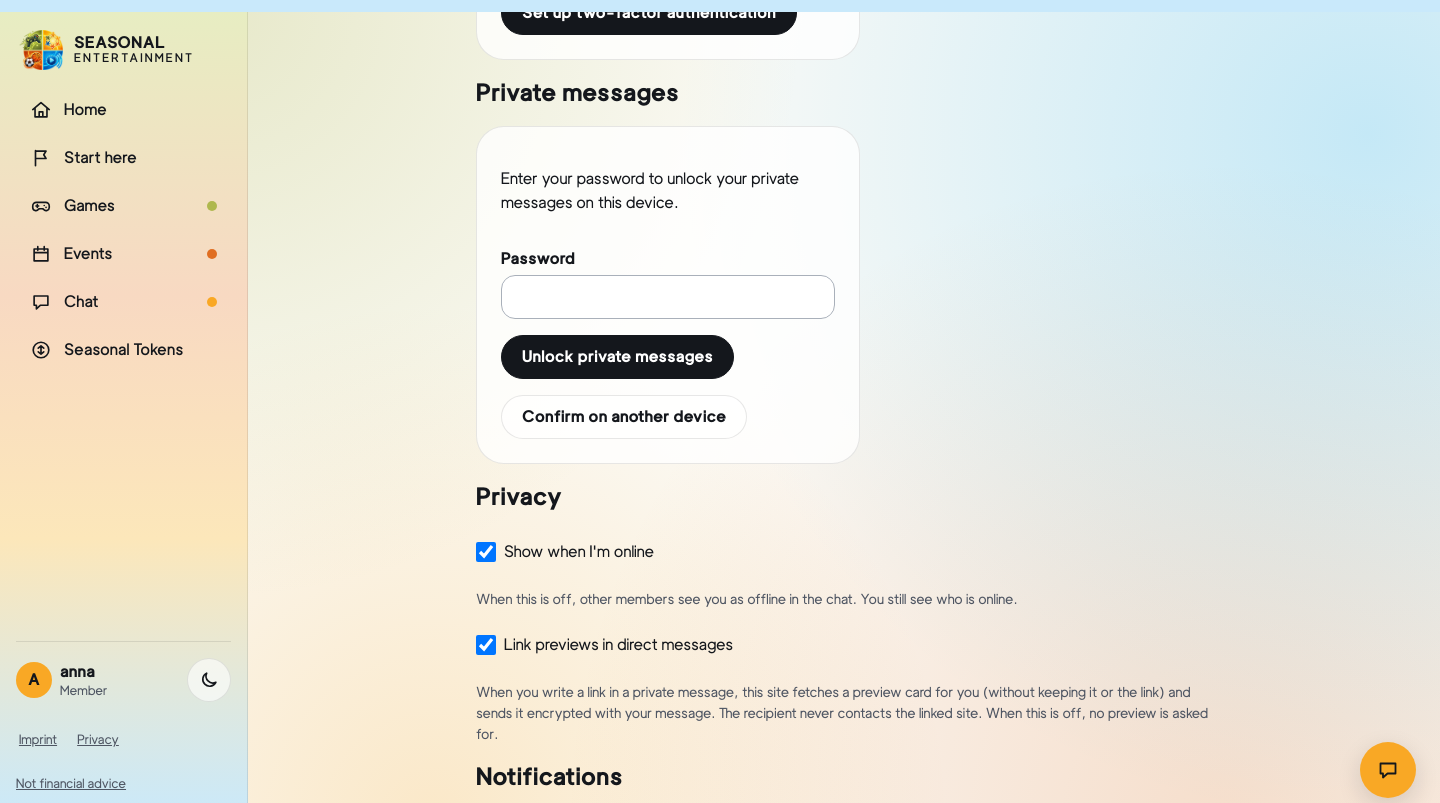
the new device › expired: nothing is unlocked
(page scrolled)
Step 1. Click the button "Confirm on another device" → (624, 417), box top-left (501, 395), bottom-right (747, 439)
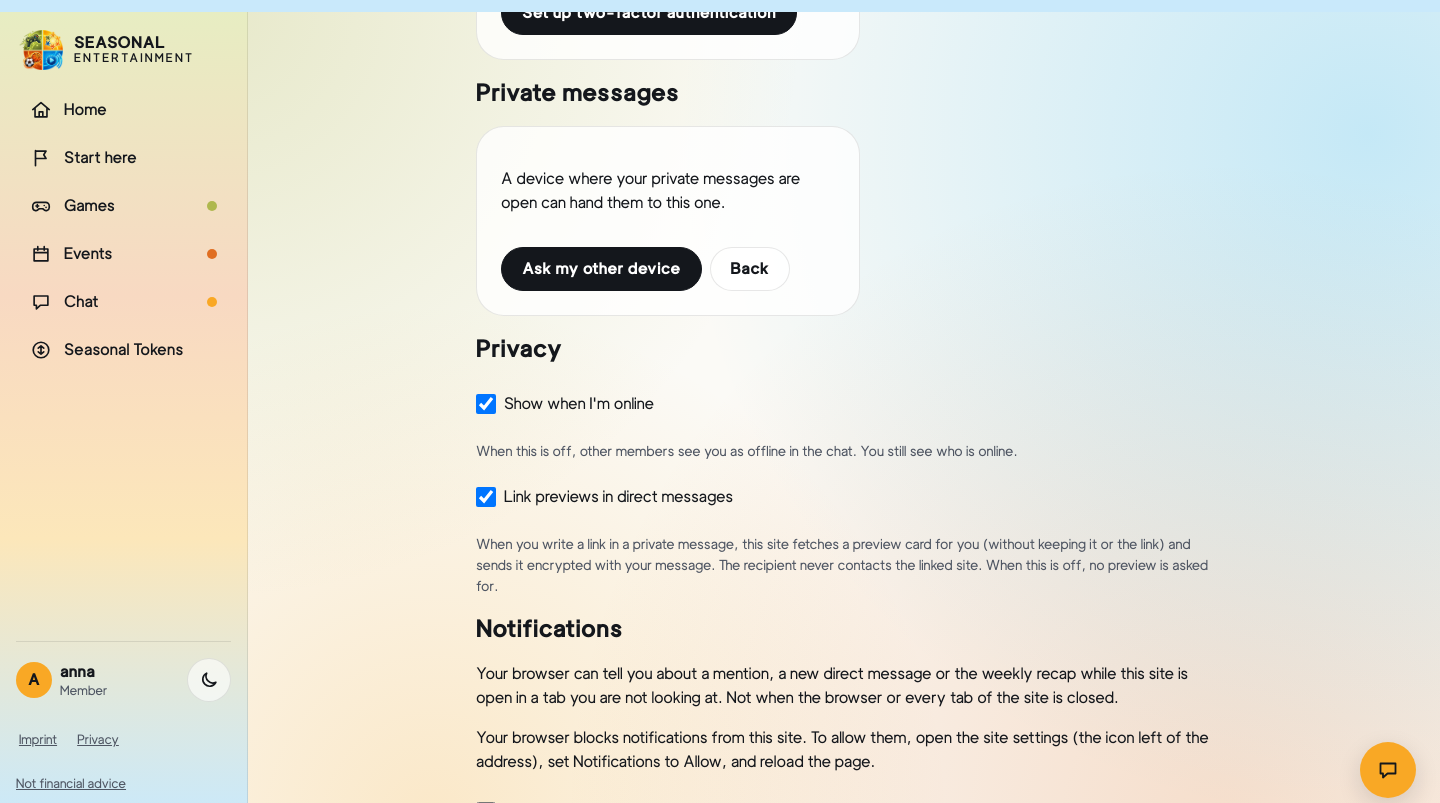
Step 2. Click the button "Ask my other device" → (601, 269), box top-left (501, 247), bottom-right (702, 291)
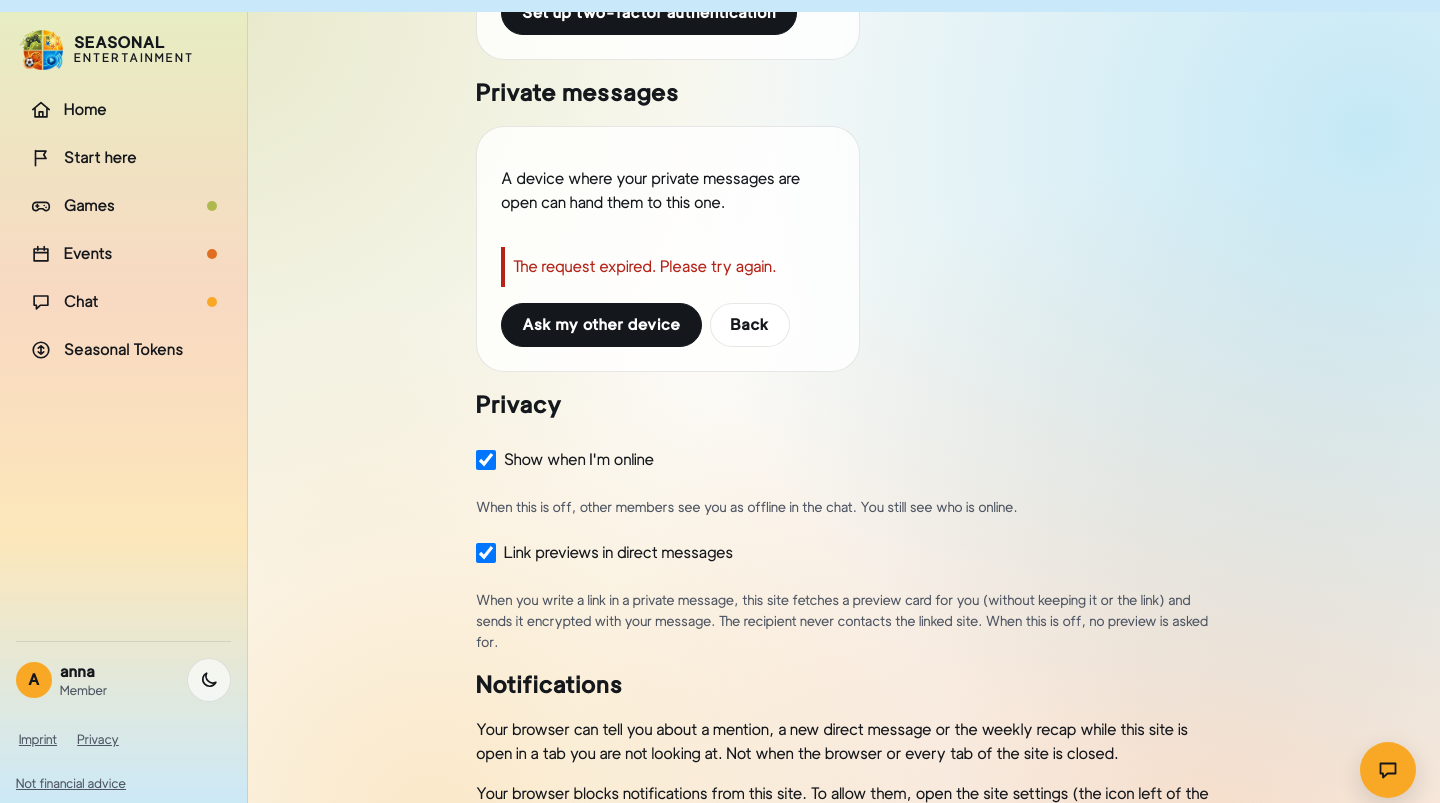
Expected: the text "The request expired. Please try again." is shown, top-left (501, 247), bottom-right (835, 287)
